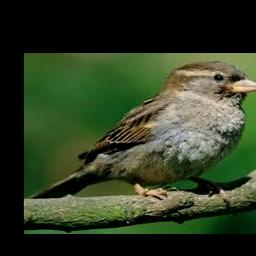Sparrow: (28, 61, 256, 203)
